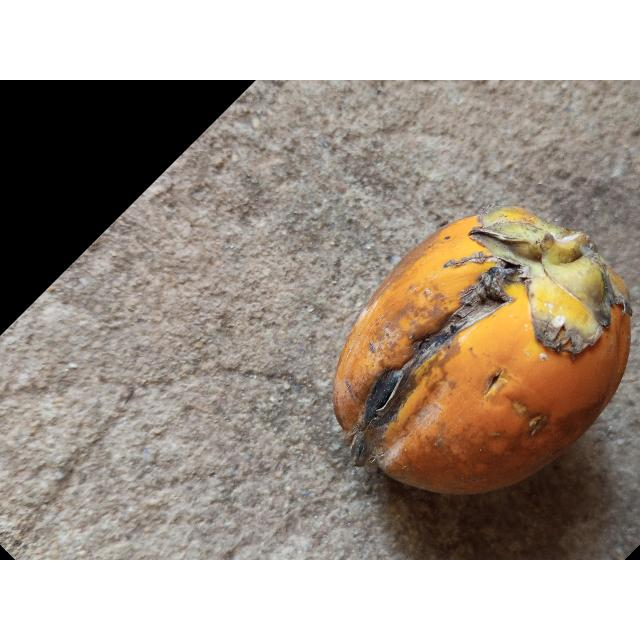damaged: (331, 208, 633, 497)
